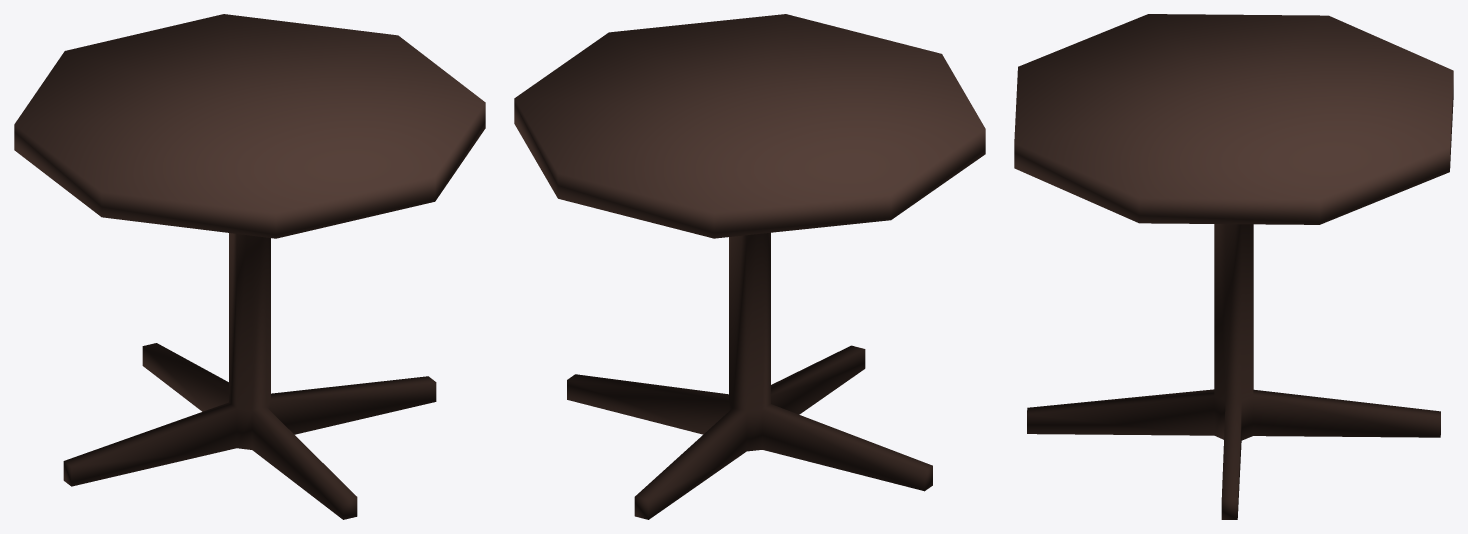
Rendered from furnishings-tables-cafetable_v1.glb.
3 renders of one model, left to right at view 1: azimuth 30°, elevation 25°; view 2: azimuth 150°, elevation 25°; view 3: azimuth 270°, elevation 25°, orthographic.
Visible parts, largest first — view 1: CafeTable.001; view 2: CafeTable.001; view 3: CafeTable.001.
Boxes of the visible parts, x1=… form: CafeTable.001: x1=14, y1=14, x2=485, y2=519; CafeTable.001: x1=514, y1=14, x2=985, y2=519; CafeTable.001: x1=1014, y1=14, x2=1453, y2=519.
Size of the model in its own units: 0.8749 by 0.7154 by 0.8749.
